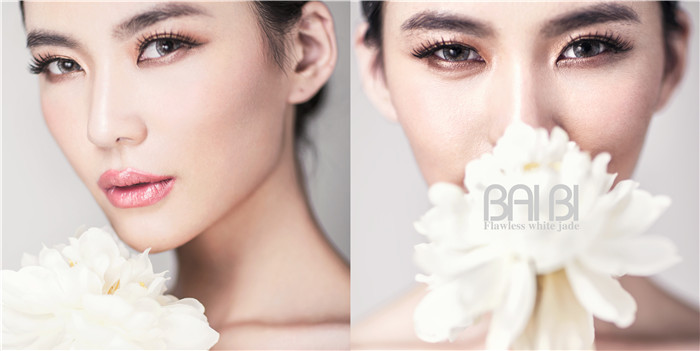face_mask: (387, 1, 664, 257), (23, 1, 281, 253)
